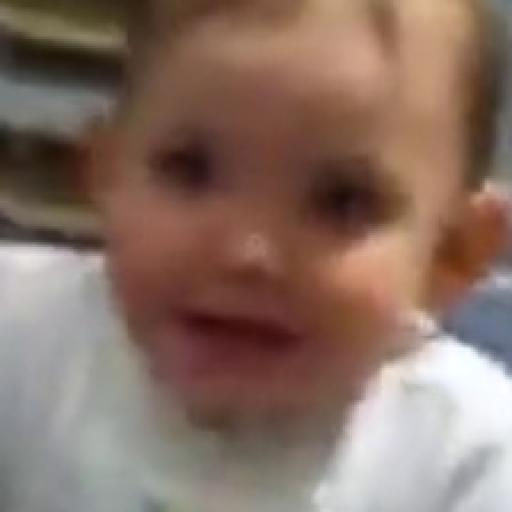Autism: (105, 19, 512, 465)
